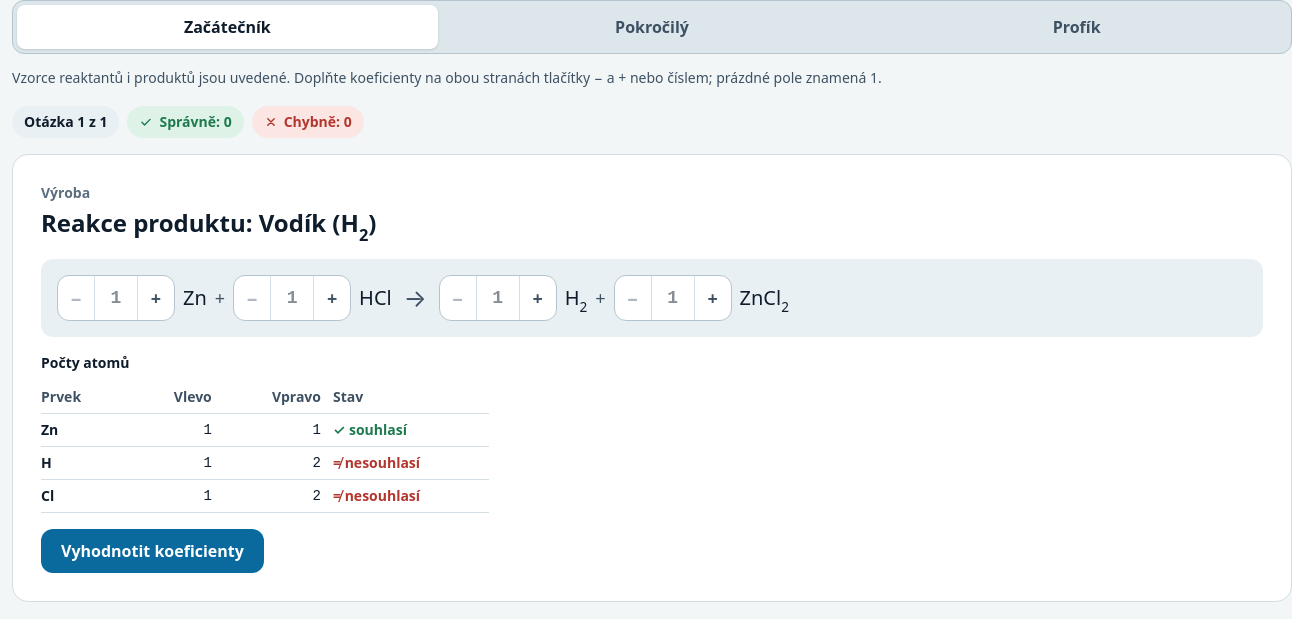
Test: reaction equation practice › asks for whole numbers instead of counting unreadable coefficients
Type "0" into the field named "Koeficient reaktant HCl" at (292, 298), box [270, 276, 314, 320]
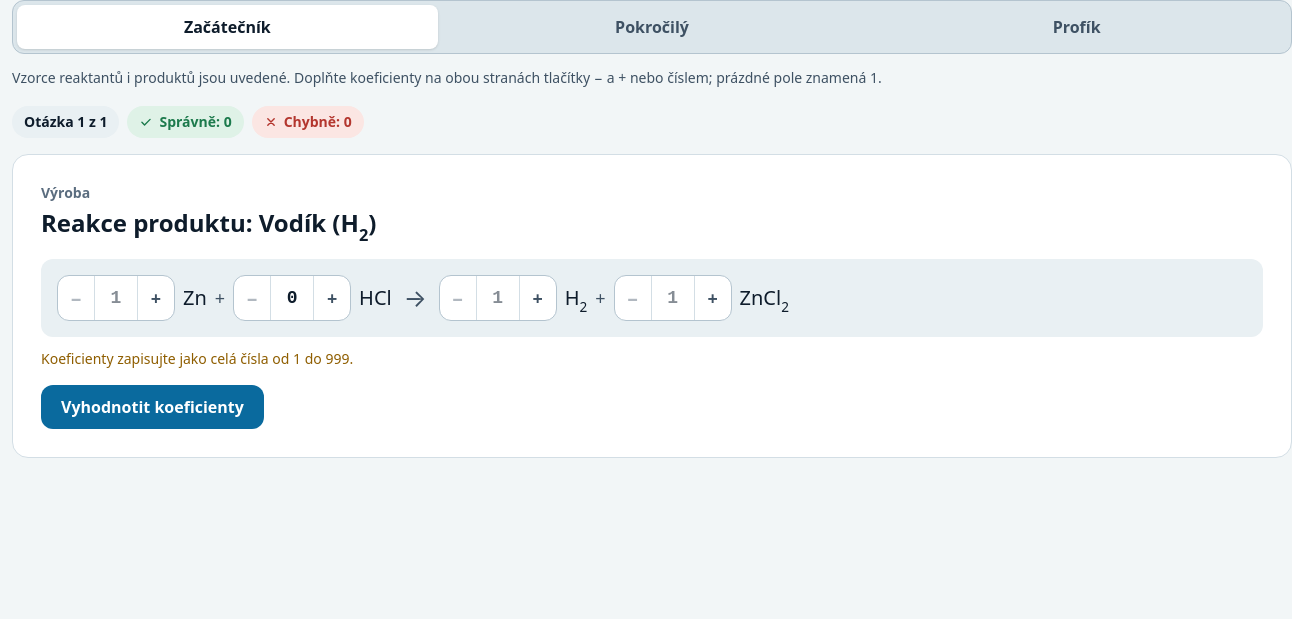
Expected: the text "Počty atomů" is gone
Expected: the message shows "celá čísla od 1 do 999", [41, 349, 353, 368]
